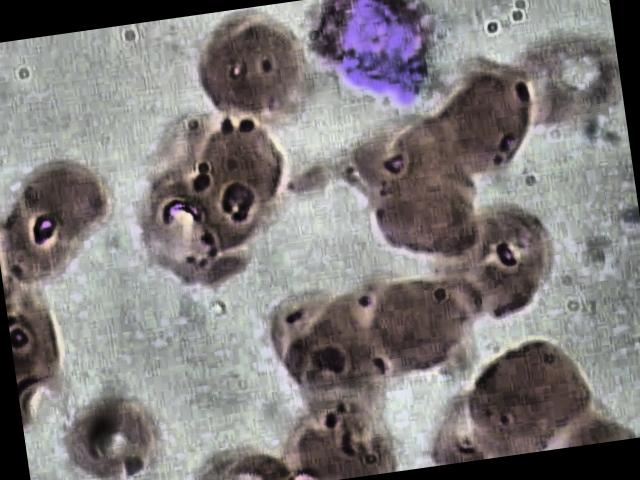RBC: (430, 194, 570, 335), (182, 5, 322, 132), (464, 335, 601, 452), (426, 55, 550, 183), (8, 142, 132, 270), (44, 376, 185, 480), (366, 158, 484, 272), (361, 269, 478, 383)
WBC: (300, 0, 449, 121)
